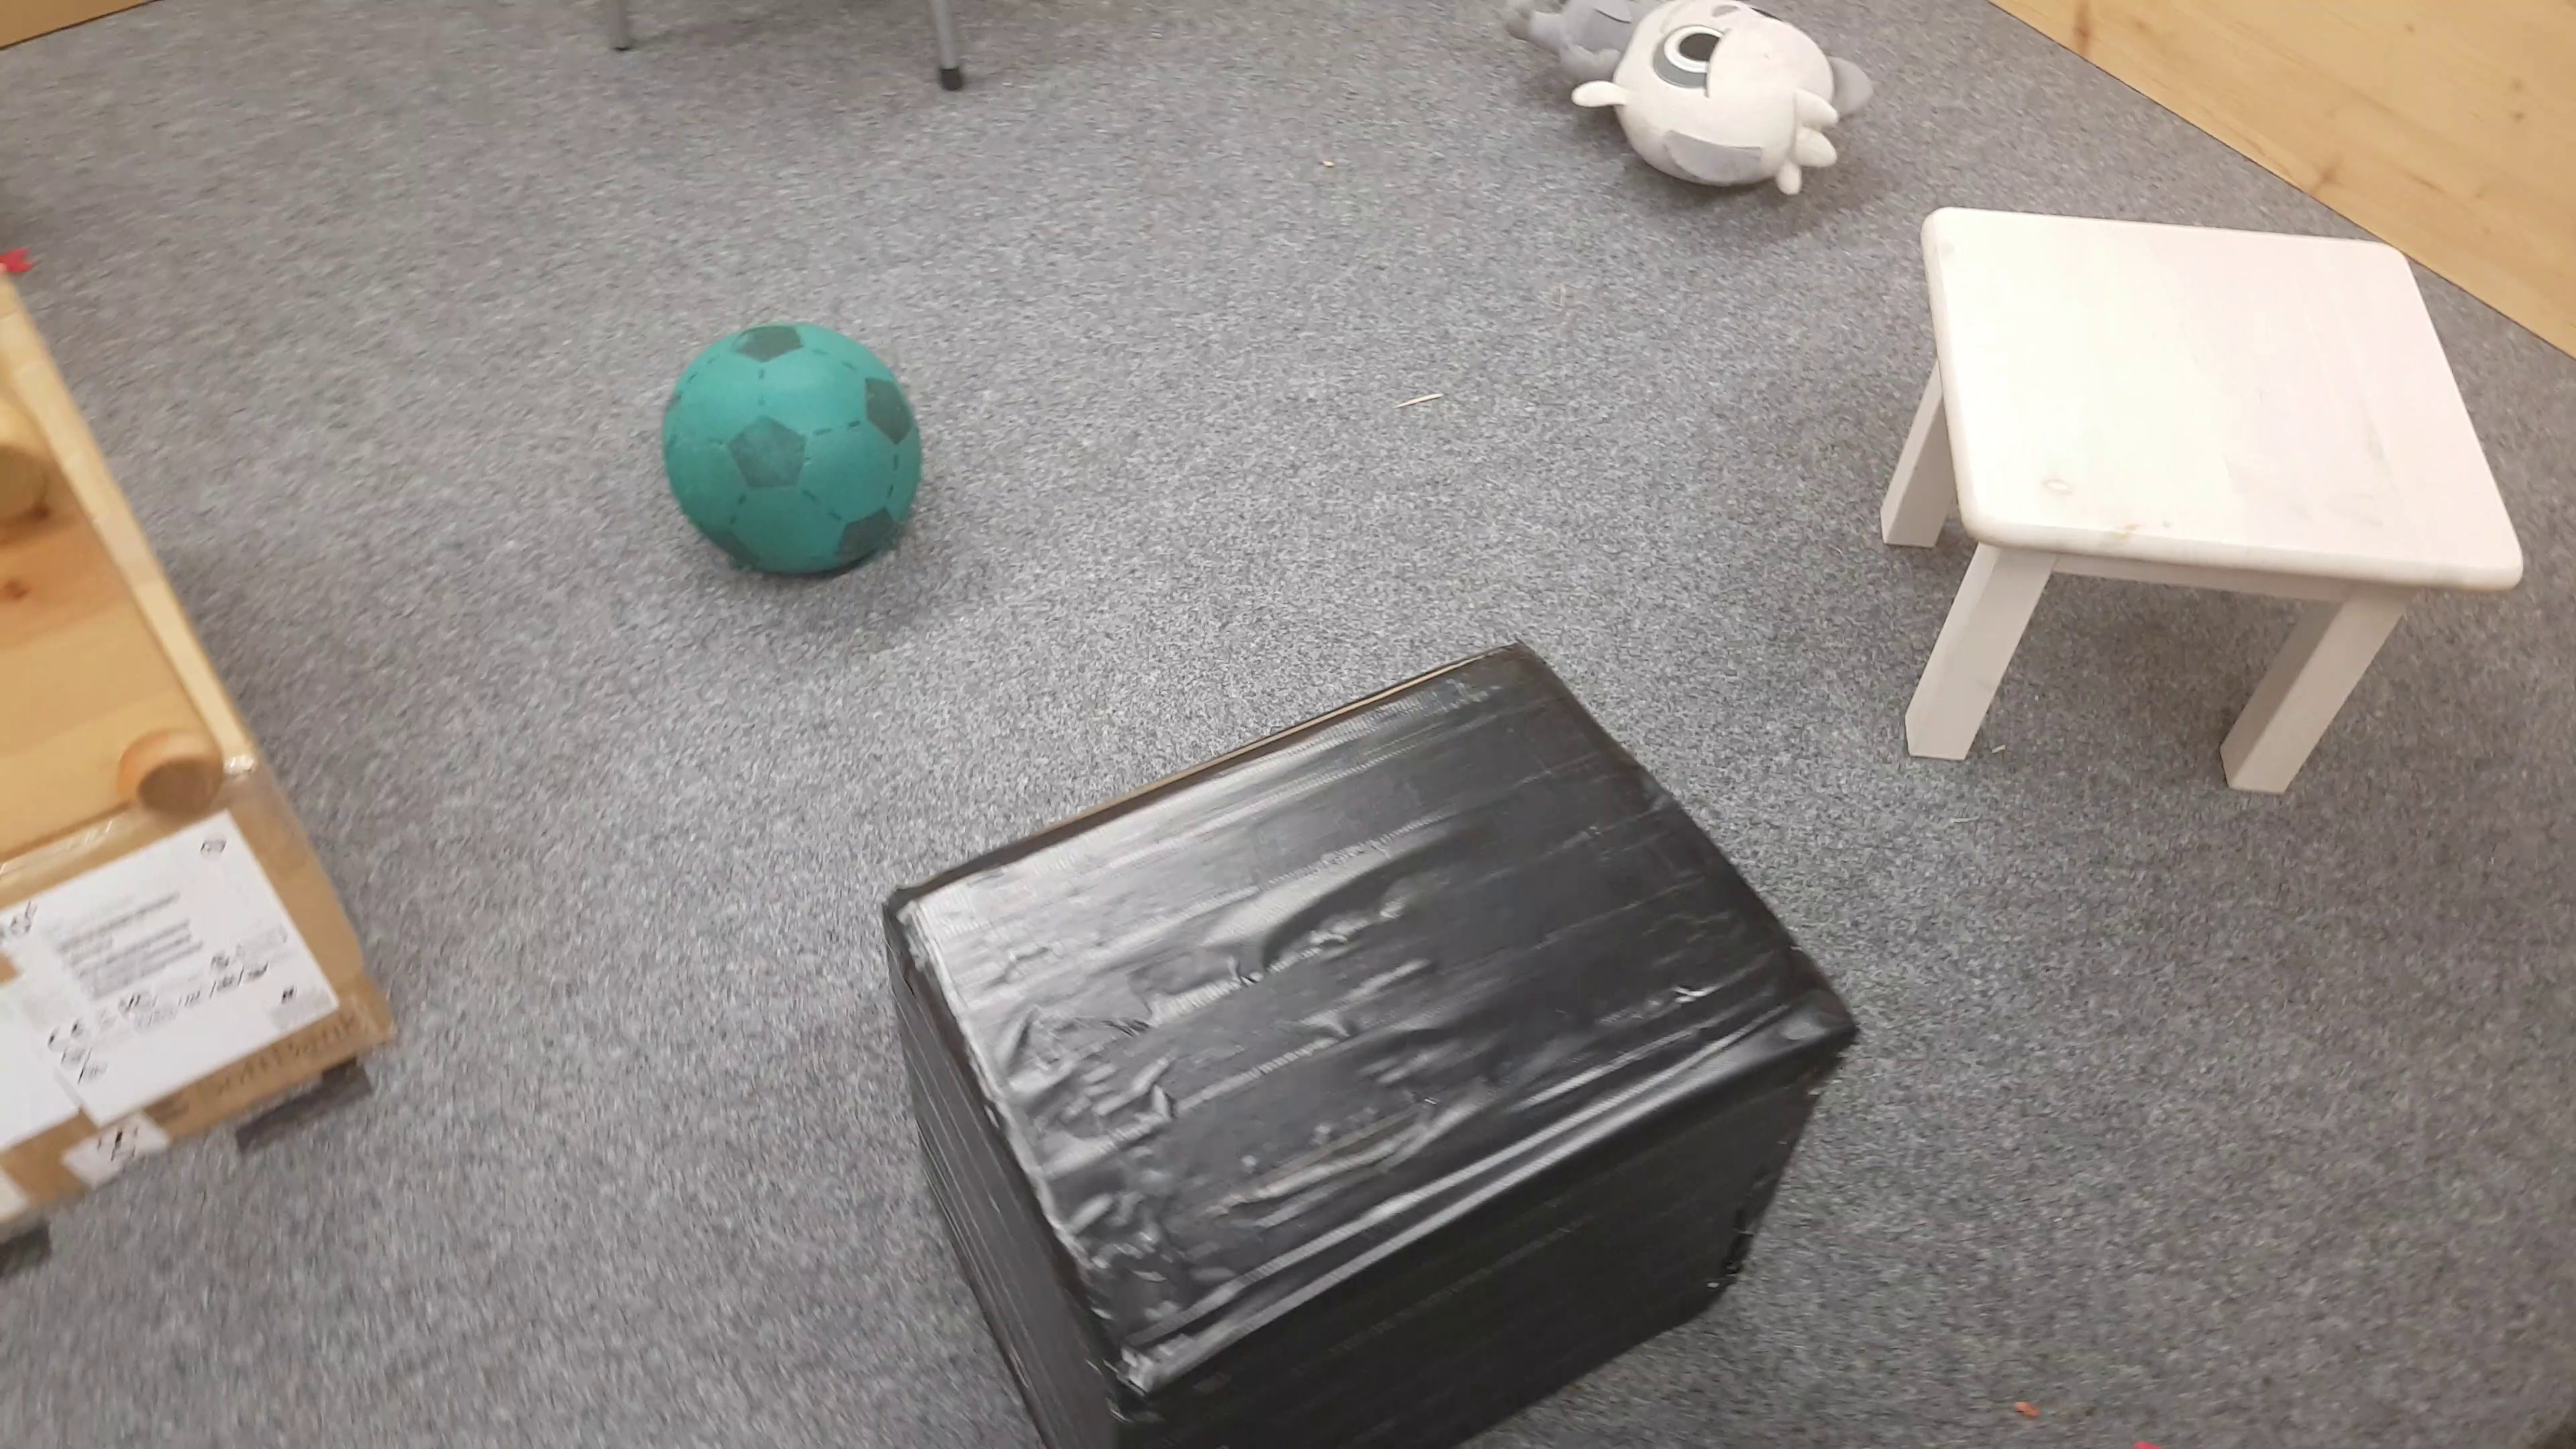grasp: (1502, 2, 1879, 209)
kick: (662, 324, 924, 568)
push: (885, 644, 1858, 1421)
